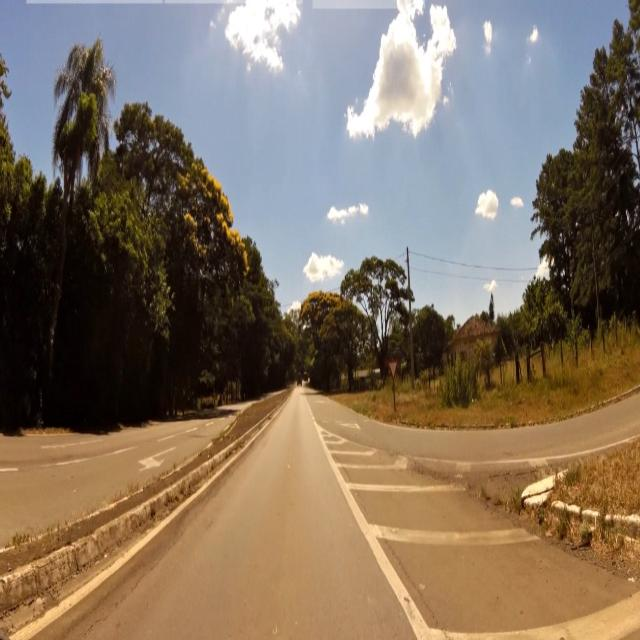R-2: (387, 359, 399, 381)
